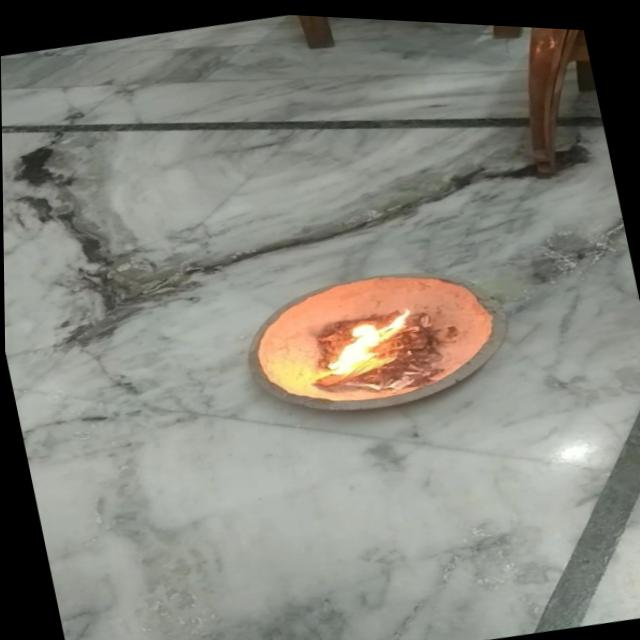fire: (304, 296, 428, 383)
